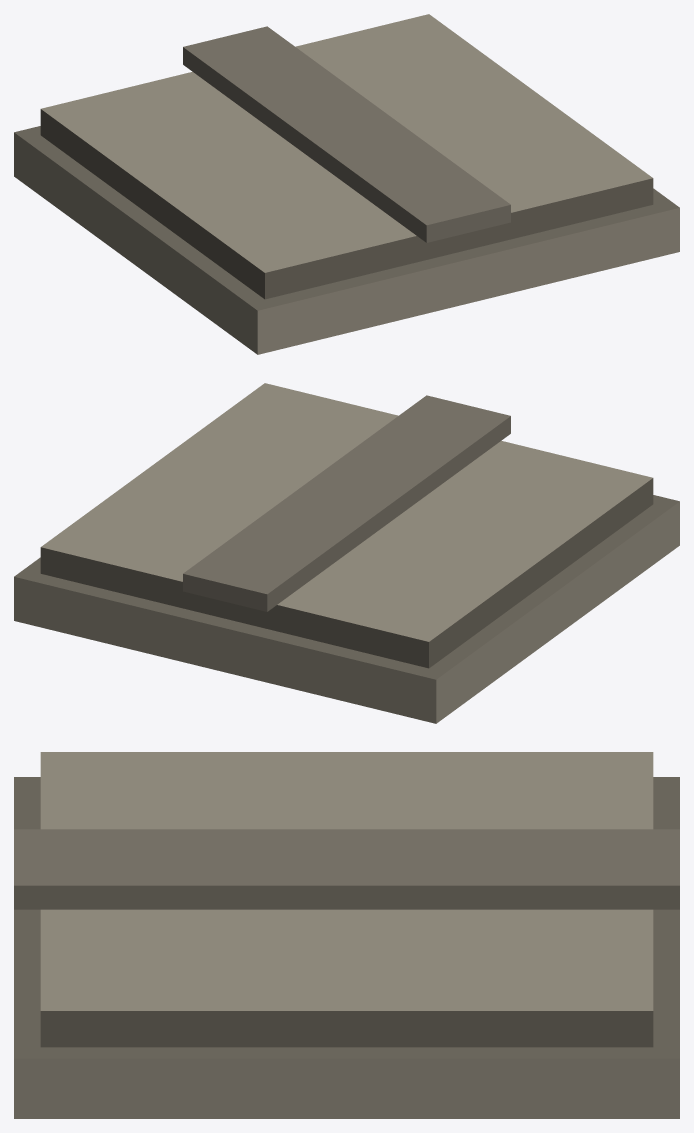
Rendered from terr_slab.glb.
3 renders of one model, top to bottom at view 1: azimuth 30°, elevation 25°; view 2: azimuth 150°, elevation 25°; view 3: azimuth 270°, elevation 25°, orthographic. The views are drawn at different scales.
Visible parts, largest first — view 1: terr_slab; view 2: terr_slab; view 3: terr_slab.
Boxes of the visible parts, bbox=[...] form: terr_slab: bbox=[14, 14, 679, 354]; terr_slab: bbox=[14, 383, 679, 723]; terr_slab: bbox=[14, 752, 679, 1118].
Bounding box in the file's own units: 1 × 0.2 × 1.
1 material, 1 textured.
